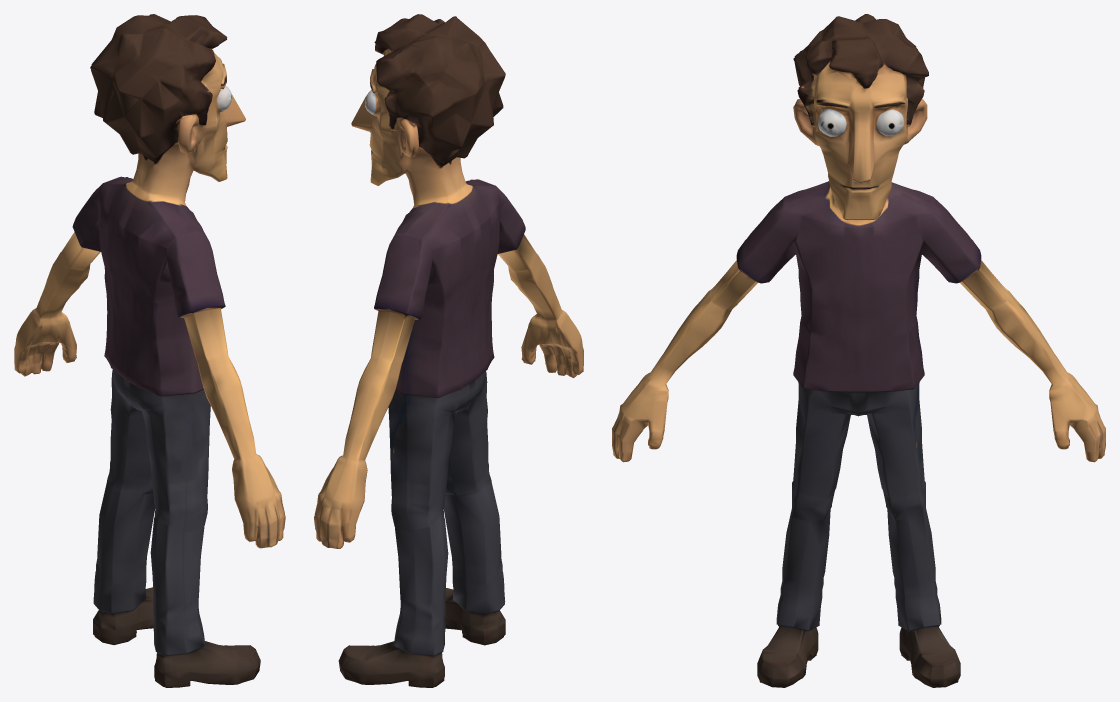
3 views of the same model, side by side, from view 1: azimuth 30°, elevation 25°; view 2: azimuth 150°, elevation 25°; view 3: azimuth 270°, elevation 25° (orthographic).
Visible parts, largest first — view 1: tripo_node_3826e275-65a3-4a4d-93b9-e2bbfd73bc91; view 2: tripo_node_3826e275-65a3-4a4d-93b9-e2bbfd73bc91; view 3: tripo_node_3826e275-65a3-4a4d-93b9-e2bbfd73bc91.
Boxes of the visible parts, left/top/right/bottom form: tripo_node_3826e275-65a3-4a4d-93b9-e2bbfd73bc91: left=14, top=14, right=285, bottom=687; tripo_node_3826e275-65a3-4a4d-93b9-e2bbfd73bc91: left=314, top=14, right=583, bottom=687; tripo_node_3826e275-65a3-4a4d-93b9-e2bbfd73bc91: left=612, top=14, right=1105, bottom=687.
Size of the model in its own units: 0.229 by 1 by 0.6986.
1 material, 1 textured.
